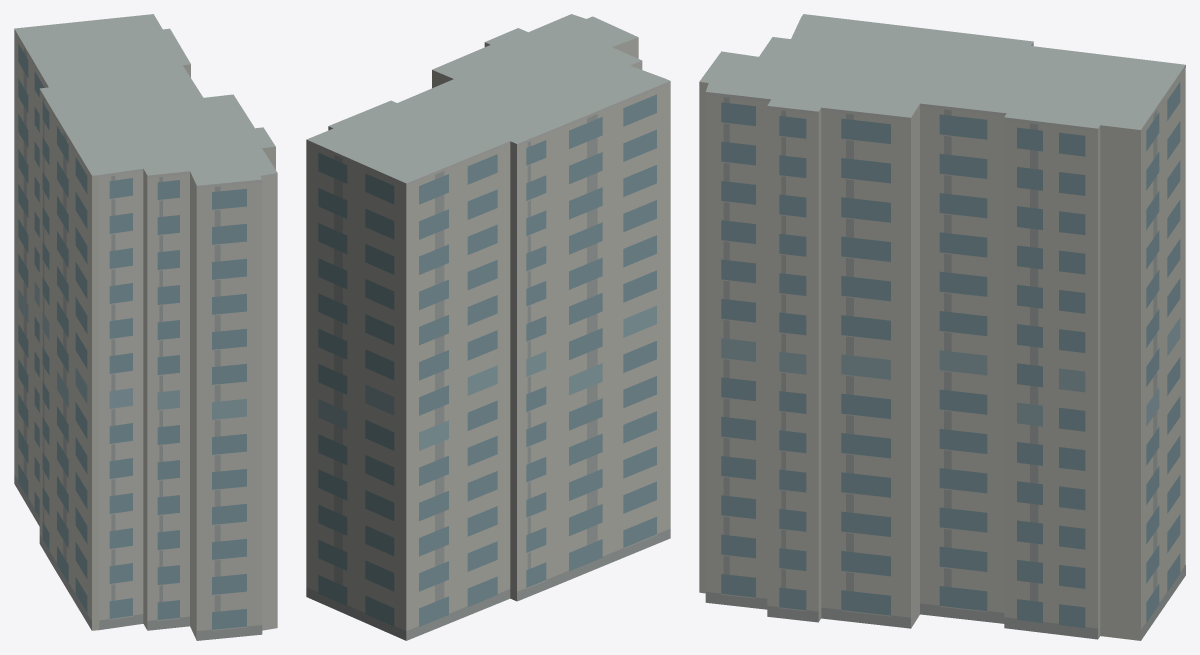
File: residential-1a40fc93-a184-4b0d-9231-4f0982b1e8d6.glb
3 views of the same model, side by side, from view 1: azimuth 30°, elevation 25°; view 2: azimuth 150°, elevation 25°; view 3: azimuth 270°, elevation 25° (orthographic). The views are drawn at different scales.
Visible parts, largest first — view 1: residential-1a40fc93-a184-4b0d-9231-4f0982b1e8d6.tmp; view 2: residential-1a40fc93-a184-4b0d-9231-4f0982b1e8d6.tmp; view 3: residential-1a40fc93-a184-4b0d-9231-4f0982b1e8d6.tmp.
Boxes of the visible parts, left/top/right/bottom form: residential-1a40fc93-a184-4b0d-9231-4f0982b1e8d6.tmp: left=14, top=14, right=277, bottom=640; residential-1a40fc93-a184-4b0d-9231-4f0982b1e8d6.tmp: left=306, top=14, right=670, bottom=640; residential-1a40fc93-a184-4b0d-9231-4f0982b1e8d6.tmp: left=699, top=14, right=1185, bottom=640.
Bounding box in the file's own units: 19.02 × 39 × 33.67.
